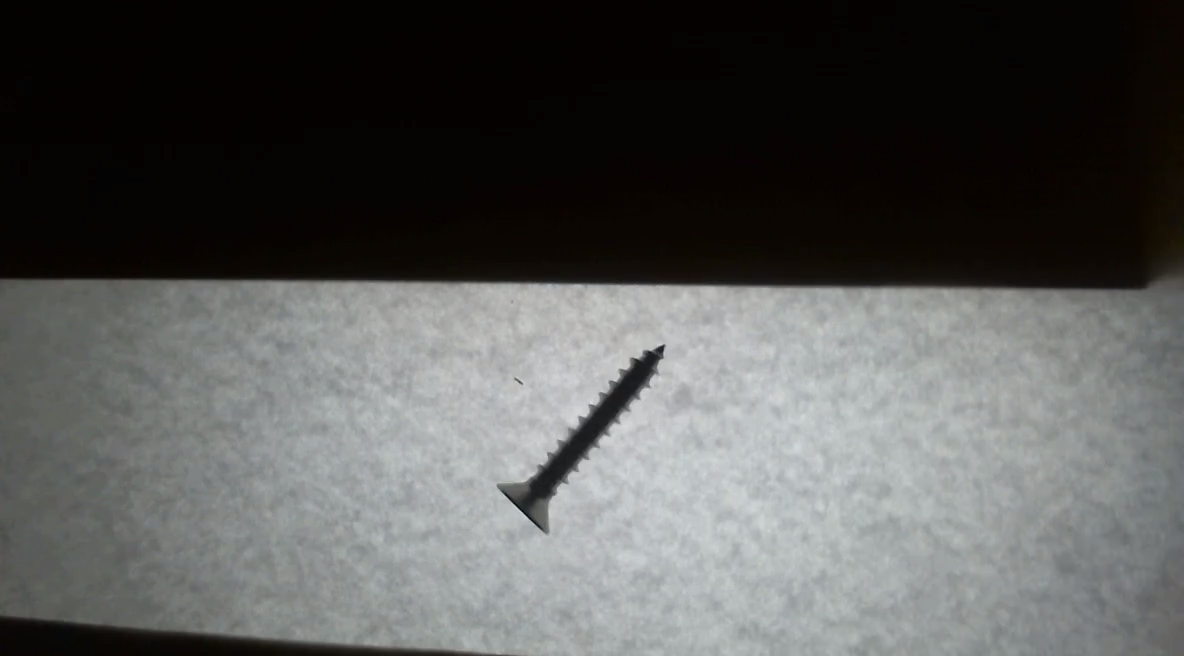S001: (476, 331, 689, 552)
